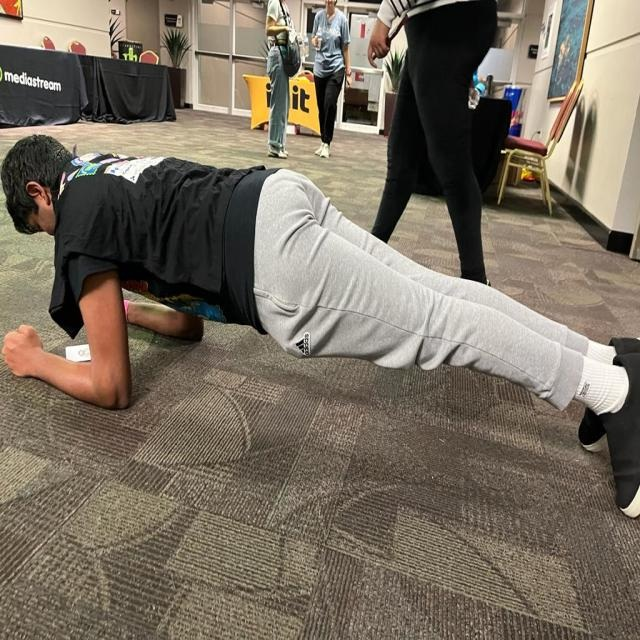plank: (2, 130, 640, 525)
